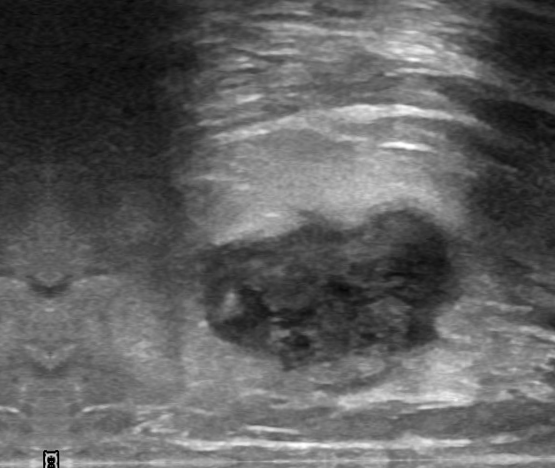Benign: (203, 201, 451, 365)
